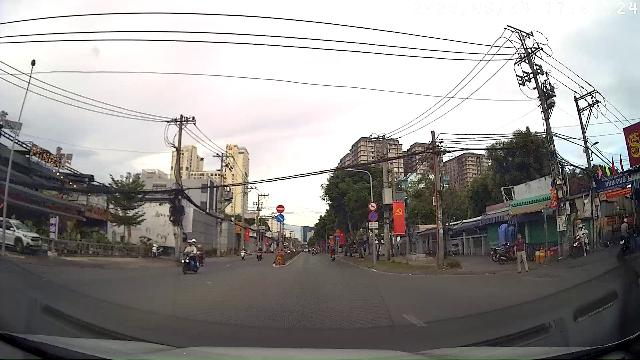102-cam-di-nguoc-chieu: (276, 204, 285, 213)
128-cam-su-dung-coi: (368, 201, 378, 211)
130-cam-dung-va-do-xe: (368, 212, 378, 222)
302a-huong-phai-di-vong-chuong-ngai-vat-1: (276, 214, 285, 222)
